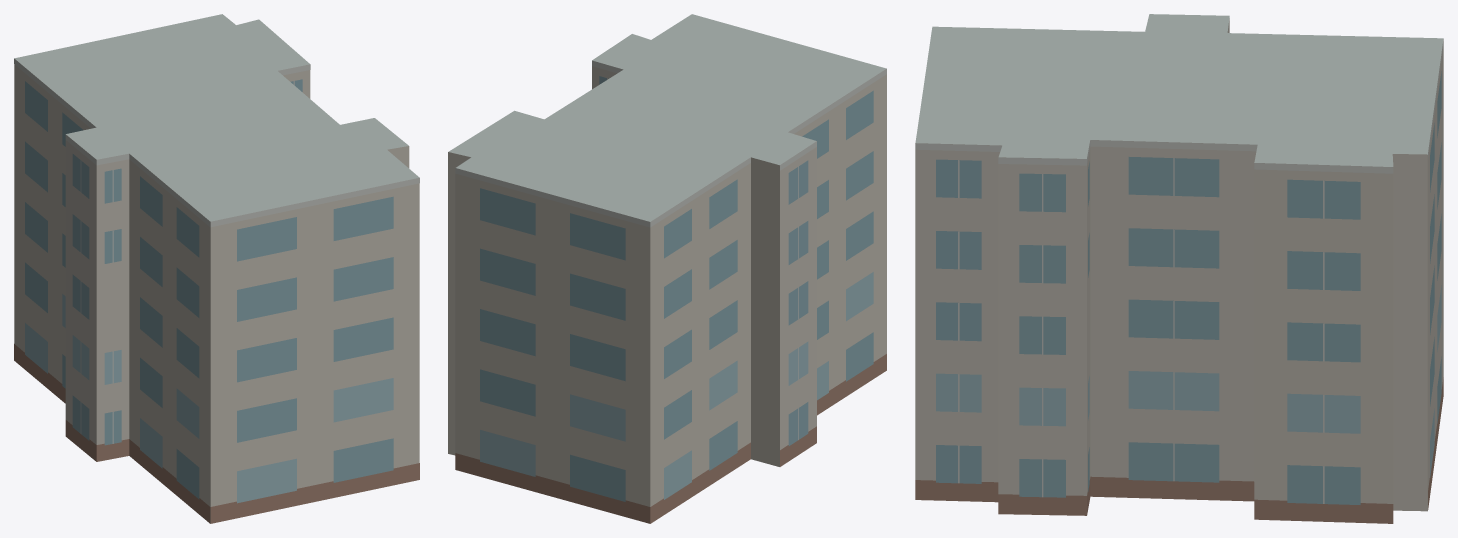
File: survey-upis-32582924.glb
The picture shows the model from 3 angles, left to right: view 1: azimuth 30°, elevation 25°; view 2: azimuth 150°, elevation 25°; view 3: azimuth 270°, elevation 25°; orthographic projection. The views are drawn at different scales.
Visible parts, largest first — view 1: survey-upis-32582924.tmp; view 2: survey-upis-32582924.tmp; view 3: survey-upis-32582924.tmp.
Boxes of the visible parts, bbox=[...] form: survey-upis-32582924.tmp: bbox=[14, 14, 419, 523]; survey-upis-32582924.tmp: bbox=[448, 14, 886, 523]; survey-upis-32582924.tmp: bbox=[915, 14, 1443, 523].
Bounding box in the file's own units: 12.06 × 13.1 × 17.59.
